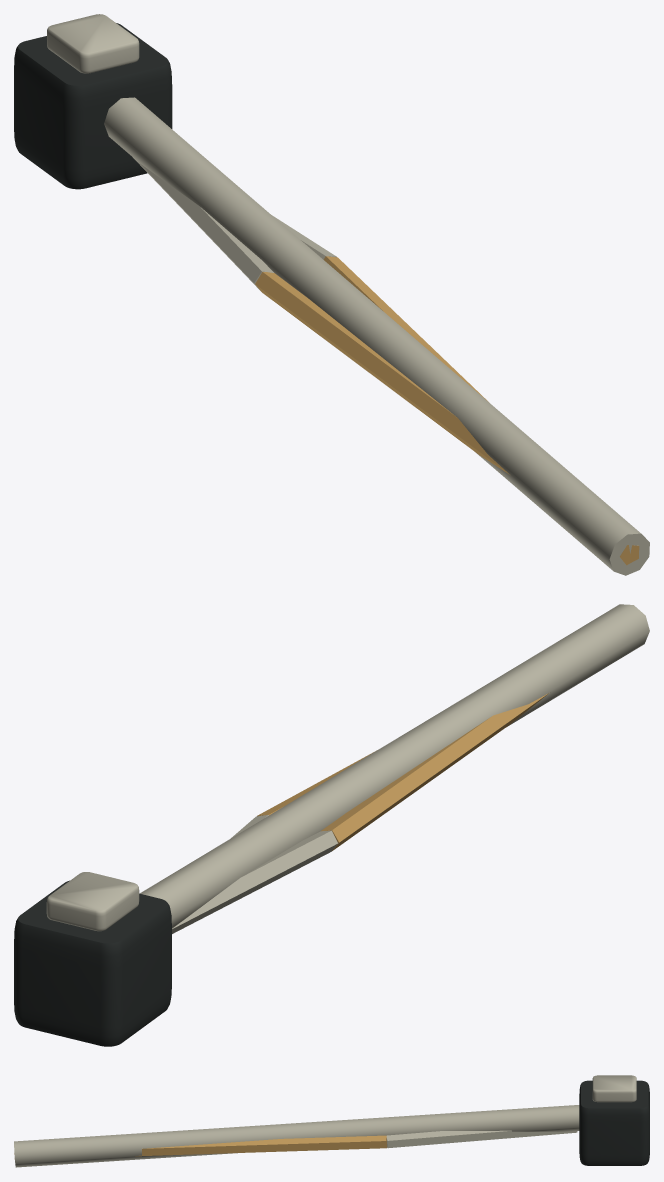
Rendered from Metropolitan.glb.
The picture shows the model from 3 angles, top to bottom: view 1: azimuth 30°, elevation 25°; view 2: azimuth 150°, elevation 25°; view 3: azimuth 270°, elevation 25°; orthographic projection. The views are drawn at different scales.
Visible parts, largest first — view 1: Steel shank, Type slug, Forked type arm (×2), Type face, Shoulder; view 2: Steel shank, Type slug, Forked type arm, Type face, Shoulder; view 3: Steel shank, Type slug, Forked type arm, Shoulder, Type face.
Part boxes in pixels (x1=…): Steel shank: x1=104, y1=97, x2=649, y2=575; Type slug: x1=14, y1=23, x2=172, y2=189; Forked type arm (×2): x1=255, y1=256, x2=639, y2=565; Type face: x1=47, y1=14, x2=139, y2=73; Shoulder: x1=133, y1=158, x2=273, y2=290; Steel shank: x1=140, y1=604, x2=649, y2=928; Type slug: x1=14, y1=880, x2=171, y2=1046; Forked type arm: x1=321, y1=693, x2=548, y2=850; Type face: x1=46, y1=872, x2=139, y2=931; Shoulder: x1=172, y1=830, x2=338, y2=933; Steel shank: x1=14, y1=1105, x2=579, y2=1167; Type slug: x1=579, y1=1080, x2=649, y2=1165; Forked type arm: x1=14, y1=1135, x2=387, y2=1159; Shoulder: x1=386, y1=1130, x2=577, y2=1148; Type face: x1=592, y1=1075, x2=636, y2=1102.
Bounding box in the file's own units: 0.0909 × 0.1208 × 0.8377.
